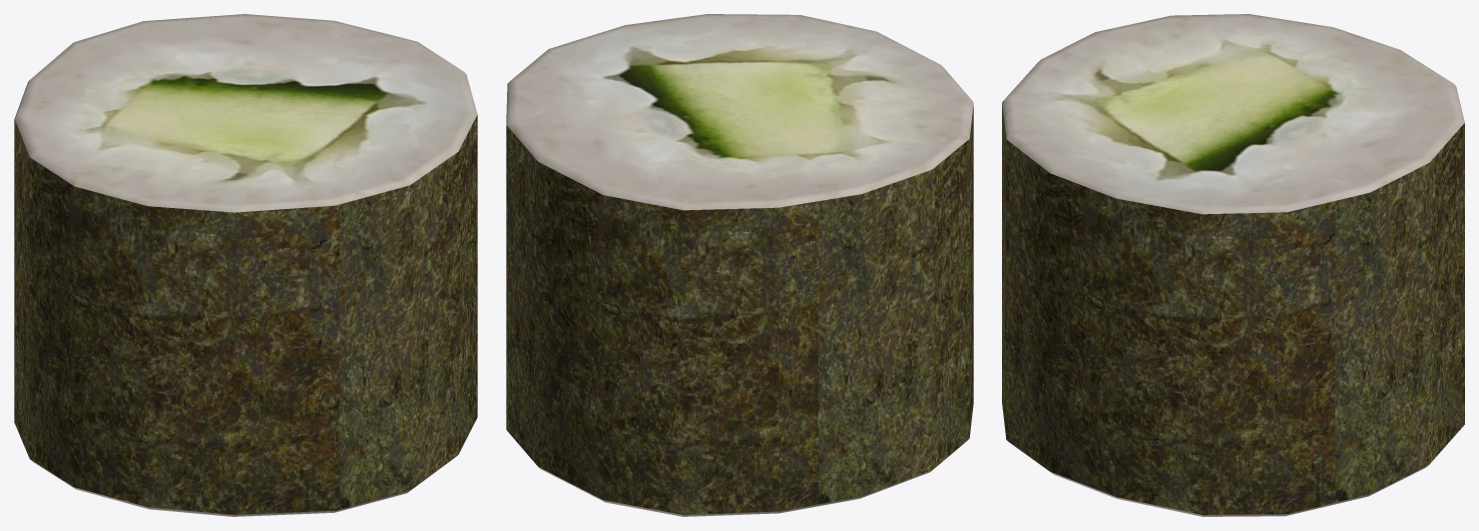
File: cucumberroll.fbx
The picture shows the model from 3 angles, left to right: view 1: azimuth 30°, elevation 25°; view 2: azimuth 150°, elevation 25°; view 3: azimuth 270°, elevation 25°; orthographic projection.
Parts seen in each view (by area): view 1: sushi_1_03; view 2: sushi_1_03; view 3: sushi_1_03.
Boxes of the visible parts, x1=… form: sushi_1_03: x1=14, y1=14, x2=477, y2=516; sushi_1_03: x1=506, y1=14, x2=973, y2=516; sushi_1_03: x1=1002, y1=14, x2=1464, y2=516.
Bounding box in the file's own units: 72.14 × 52.4 × 71.2.
Materials: 1 (1 with a texture image).
